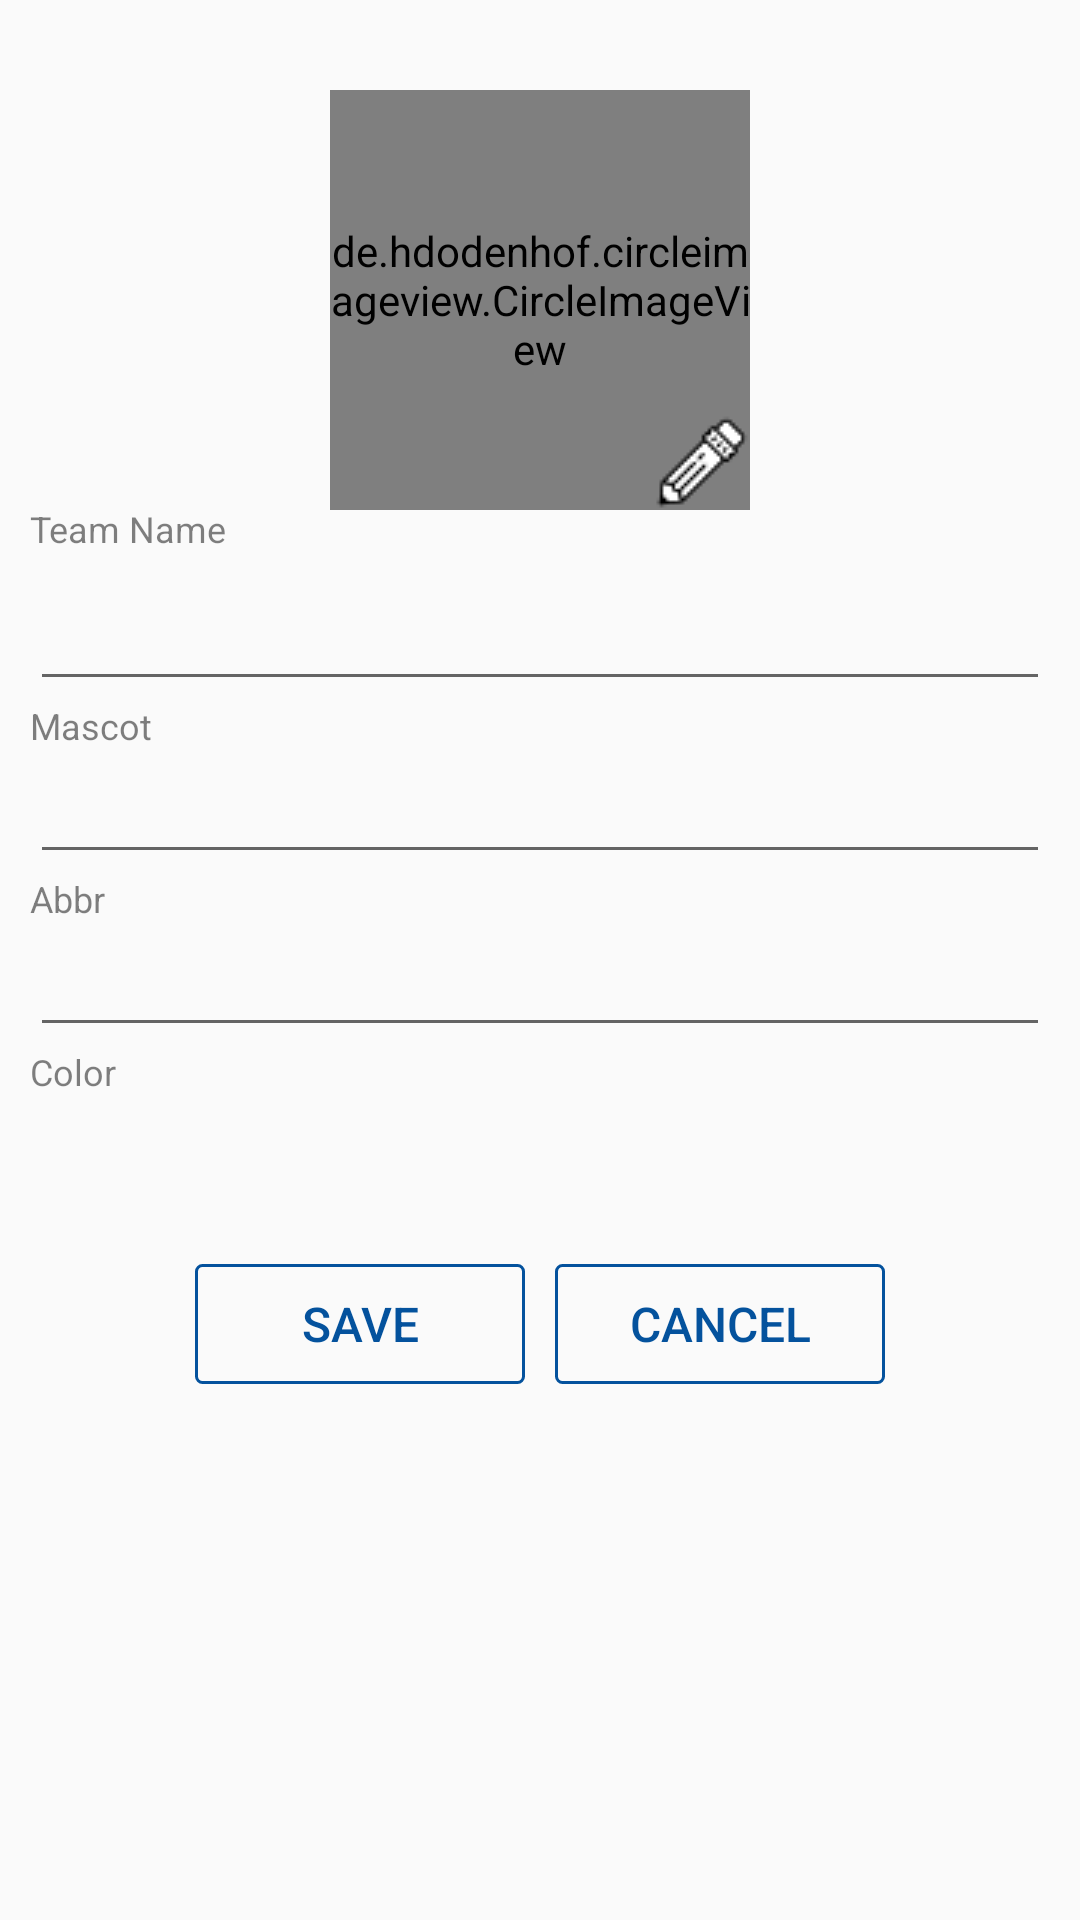

Screen size 1080px×1920px. Icon name, then its box in pixels as (x1, y1, x2, y2):
edit: (657, 419, 745, 507)
